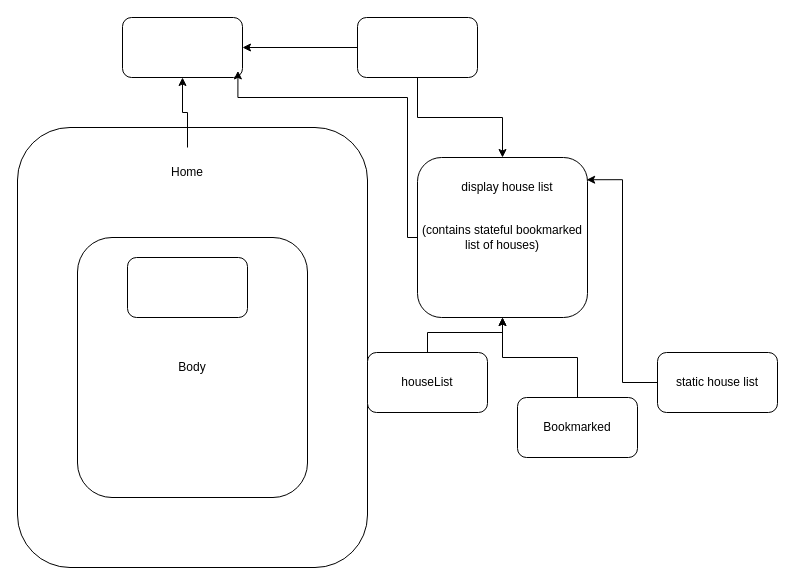
The diagram is 795 pixels wide and 585 high, and some of its shapes have lost their labels. Each missing label, with the centre of its shape:
"App" belongs at pixel 182 47.
"Nav" belongs at pixel 417 47.
"search" belongs at pixel 187 287.
